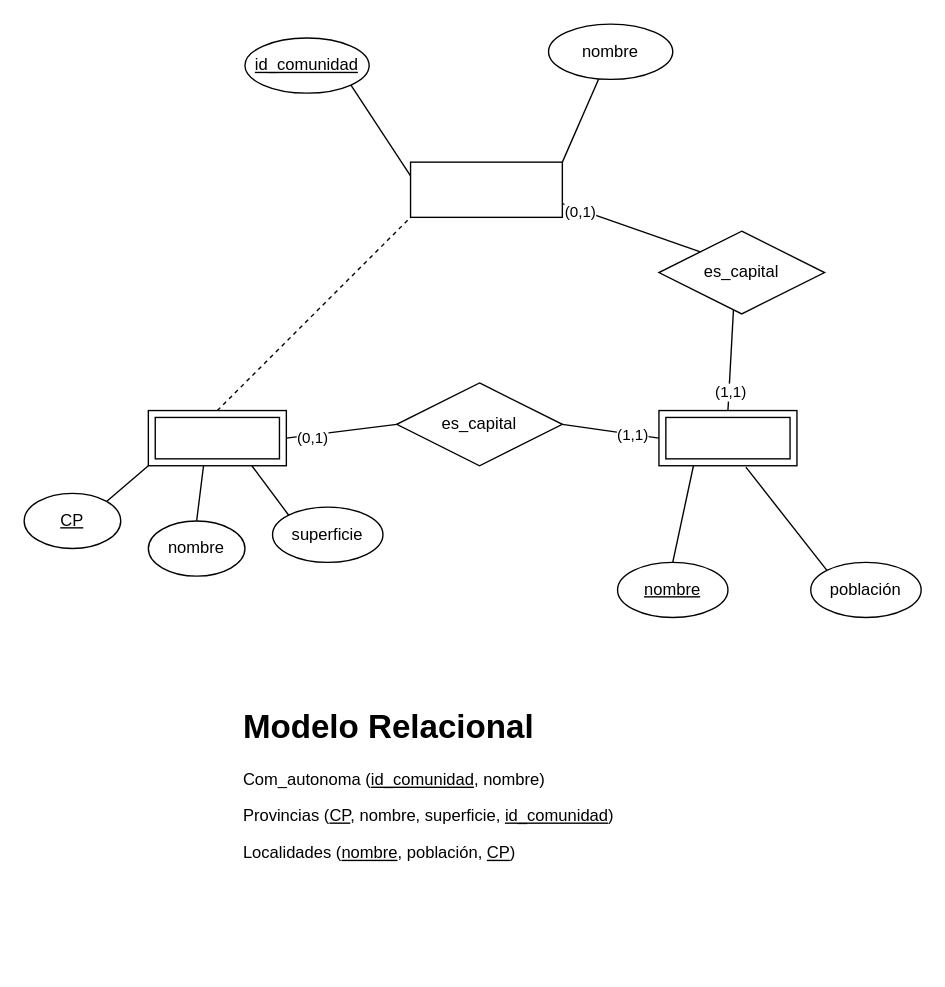
This 945x987 diagram has some shape labels left out. Each missing label, with the centre of its shape:
"COM_AUTONOMA" goes at (485,189).
"LOCALIDADES" goes at (727,437).
"PROVINCIAS" goes at (216,437).
